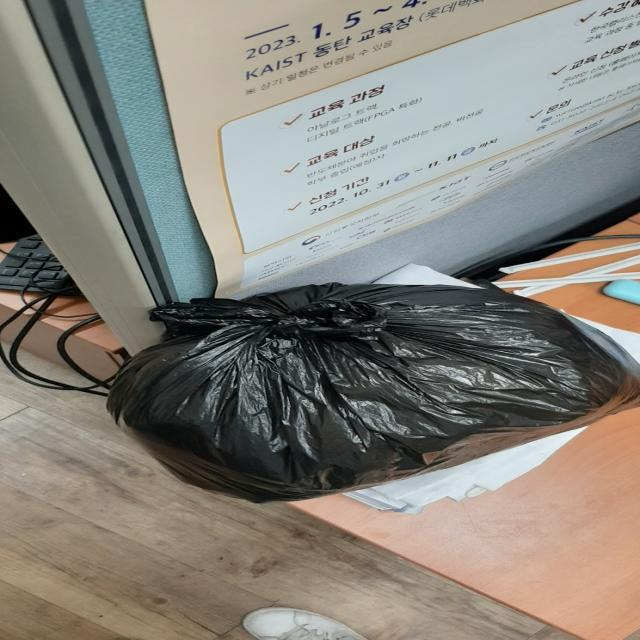black_bag: (107, 280, 640, 505)
